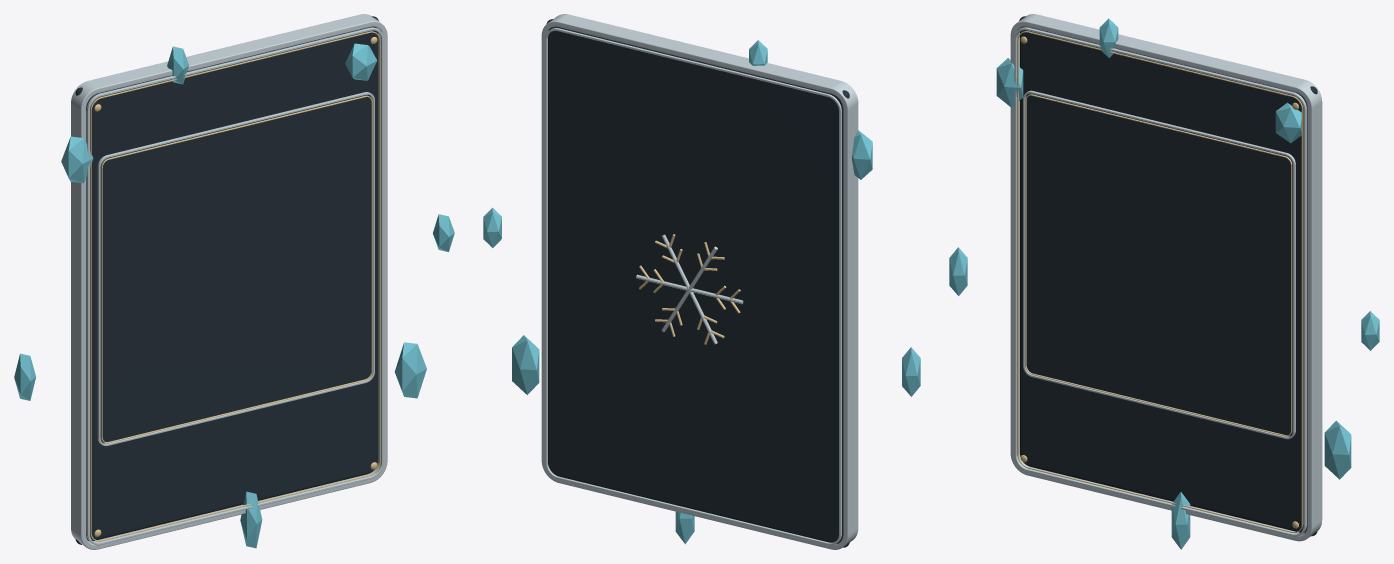
The model's file is card-hardware.glb.
The picture shows the model from 3 angles, left to right: view 1: azimuth 30°, elevation 25°; view 2: azimuth 150°, elevation 25°; view 3: azimuth 330°, elevation 25°; orthographic projection.
Parts seen in each view (by area): view 1: Card core, Outer palladium bezel, Front polished fillet, Artwork window, Front gold hairline, Artwork gold inlay, Crystal_05, Crystal_01, Crystal_02, Crystal_03, Crystal_04, Crystal_00 (+1 smaller); view 2: Card core, Outer palladium bezel, Reverse polished fillet, Crystal_05, Crystal_01, Crystal_04, Crystal_00; view 3: Card core, Outer palladium bezel, Front polished fillet, Artwork window, Front gold hairline, Artwork gold inlay, Crystal_05, Crystal_01, Crystal_03, Crystal_02, Crystal_04, Crystal_00 (+1 smaller).
Part boxes in pixels (left/top/right/bottom): Card core: left=75, top=16, right=378, bottom=544; Outer palladium bezel: left=71, top=14, right=387, bottom=549; Front polished fillet: left=86, top=27, right=383, bottom=545; Artwork window: left=97, top=92, right=374, bottom=446; Front gold hairline: left=90, top=31, right=380, bottom=541; Artwork gold inlay: left=101, top=95, right=372, bottom=443; Crystal_05: left=394, top=342, right=426, bottom=398; Crystal_01: left=61, top=136, right=93, bottom=183; Crystal_02: left=240, top=491, right=262, bottom=548; Crystal_03: left=345, top=43, right=377, bottom=80; Crystal_04: left=14, top=353, right=35, bottom=400; Crystal_00: left=433, top=214, right=454, bottom=251; Card core: left=546, top=19, right=849, bottom=547; Outer palladium bezel: left=541, top=14, right=858, bottom=549; Reverse polished fillet: left=545, top=28, right=841, bottom=545; Crystal_05: left=512, top=335, right=539, bottom=394; Crystal_01: left=852, top=130, right=872, bottom=179; Crystal_04: left=902, top=347, right=920, bottom=396; Crystal_00: left=483, top=207, right=501, bottom=247; Card core: left=1019, top=16, right=1317, bottom=536; Outer palladium bezel: left=1010, top=14, right=1322, bottom=541; Front polished fillet: left=1014, top=27, right=1306, bottom=536; Artwork window: left=1023, top=90, right=1295, bottom=439; Front gold hairline: left=1017, top=31, right=1303, bottom=533; Artwork gold inlay: left=1025, top=94, right=1292, bottom=436; Crystal_05: left=1324, top=420, right=1351, bottom=479; Crystal_01: left=996, top=58, right=1023, bottom=107; Crystal_03: left=1275, top=102, right=1301, bottom=143; Crystal_02: left=1171, top=492, right=1190, bottom=549; Crystal_04: left=949, top=247, right=967, bottom=295; Crystal_00: left=1361, top=311, right=1379, bottom=350.
Bounding box in the file's own units: 4.55 × 5.16 × 0.368.
